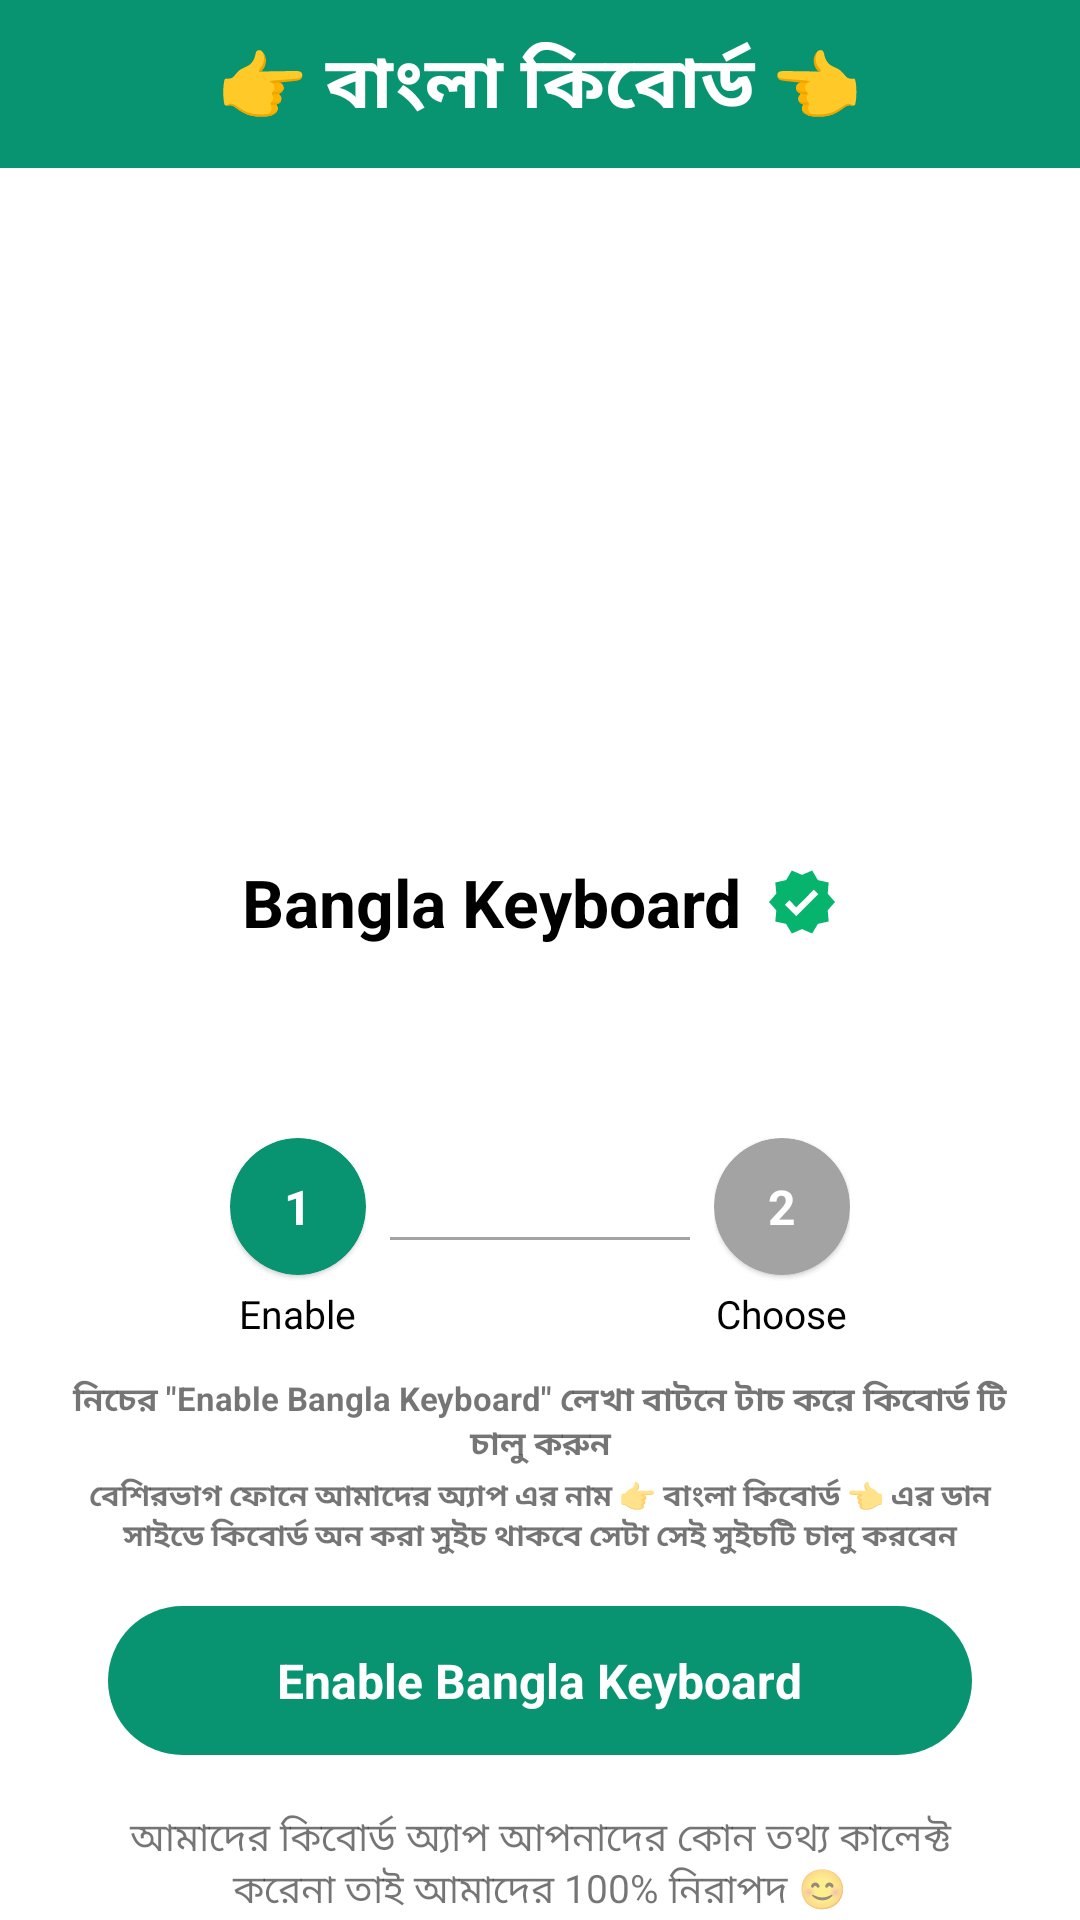

Screen size 1080*1920. Icon name, then its box in pixels as (left=x1, top=y1, right=x2, bottom=y2):
verified: (left=769, top=870, right=835, bottom=934)
